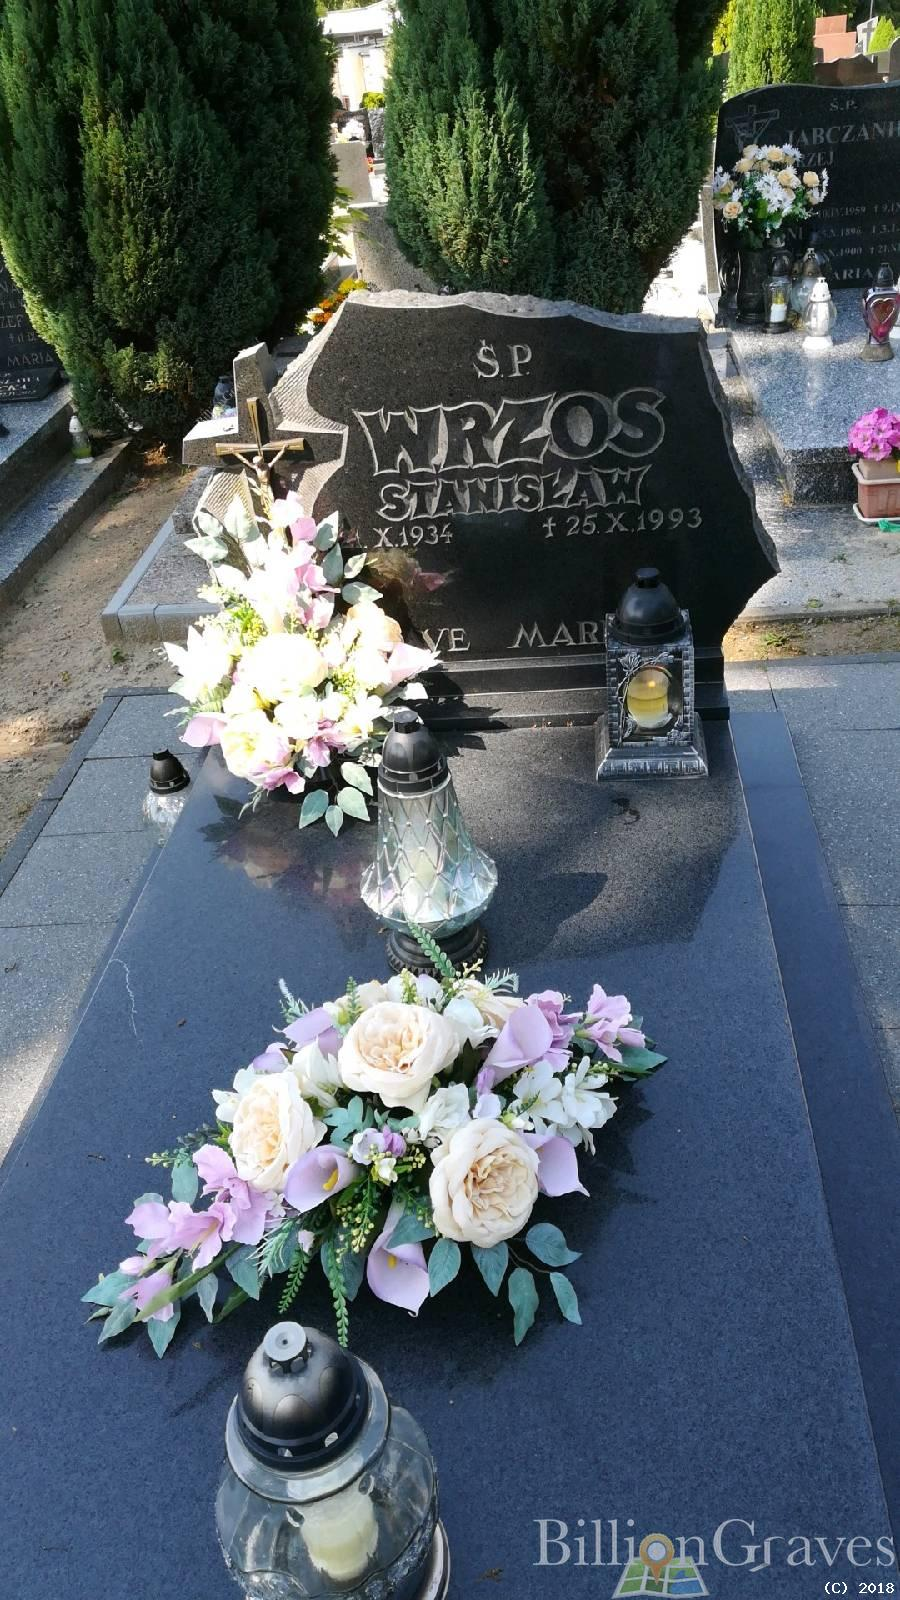vault: (0, 270, 900, 1600)
